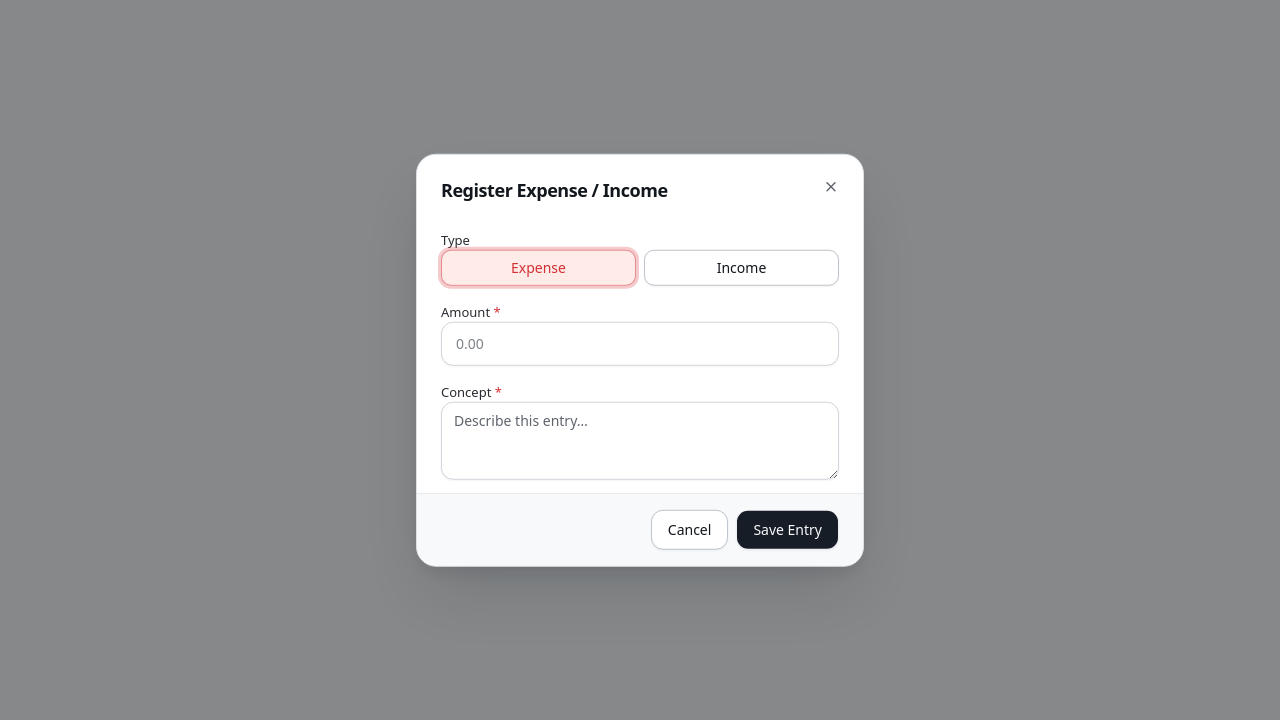
Scenario: RegisterCajaEntryDialog › shows validation error when concept is empty on submit
The image size is (1280, 720).
Note: Fill amount but leave concept empty
Type "50" into the number field labelled "Amount *".
click(640, 343); type("50")  # box [441, 321, 839, 365]
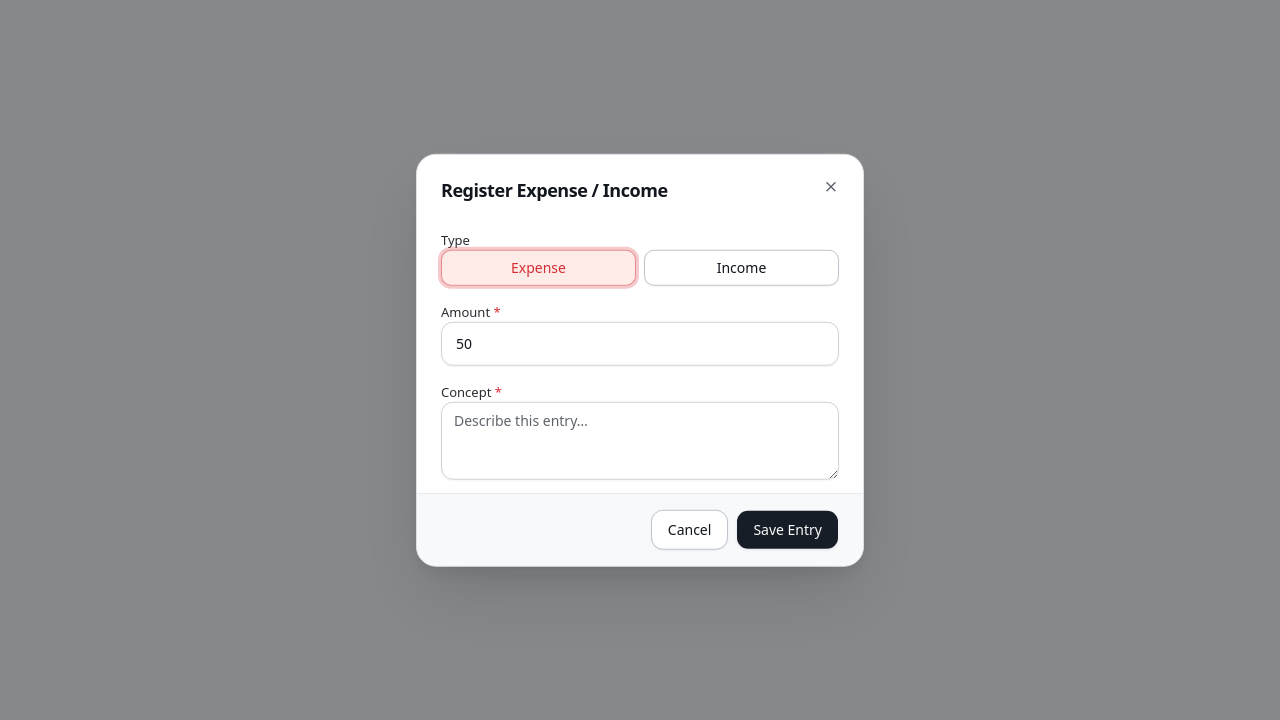
Submit the form with test id "entry-form", box [441, 221, 839, 541]
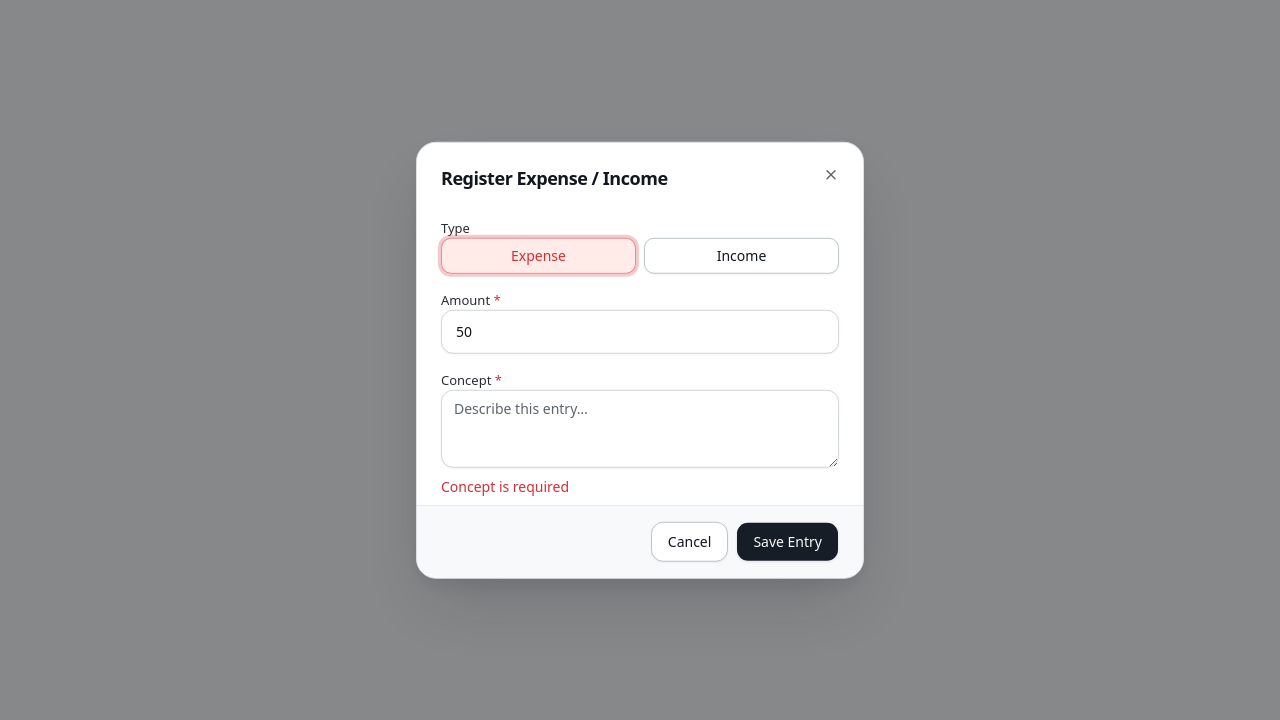
Check: the text "Concept is required" is shown, box [441, 476, 569, 495]
